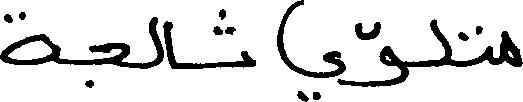X: (277, 0, 344, 101), (346, 17, 407, 91), (0, 7, 56, 69), (90, 38, 128, 92), (428, 14, 451, 71), (503, 26, 522, 71), (149, 12, 162, 72), (164, 16, 175, 73), (241, 46, 254, 72), (483, 41, 492, 69)
